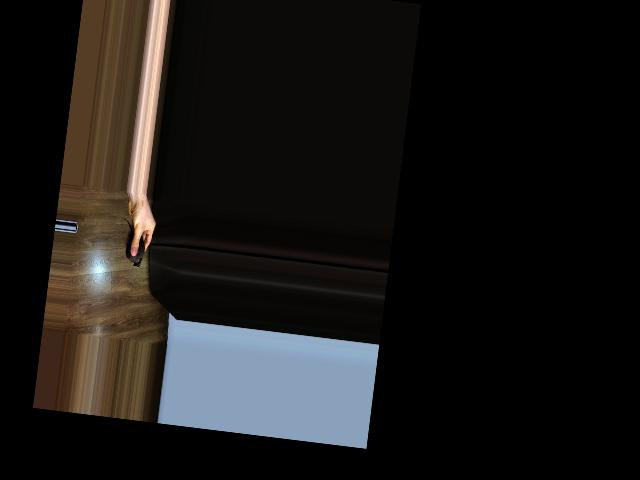beet: (117, 219, 147, 268)
